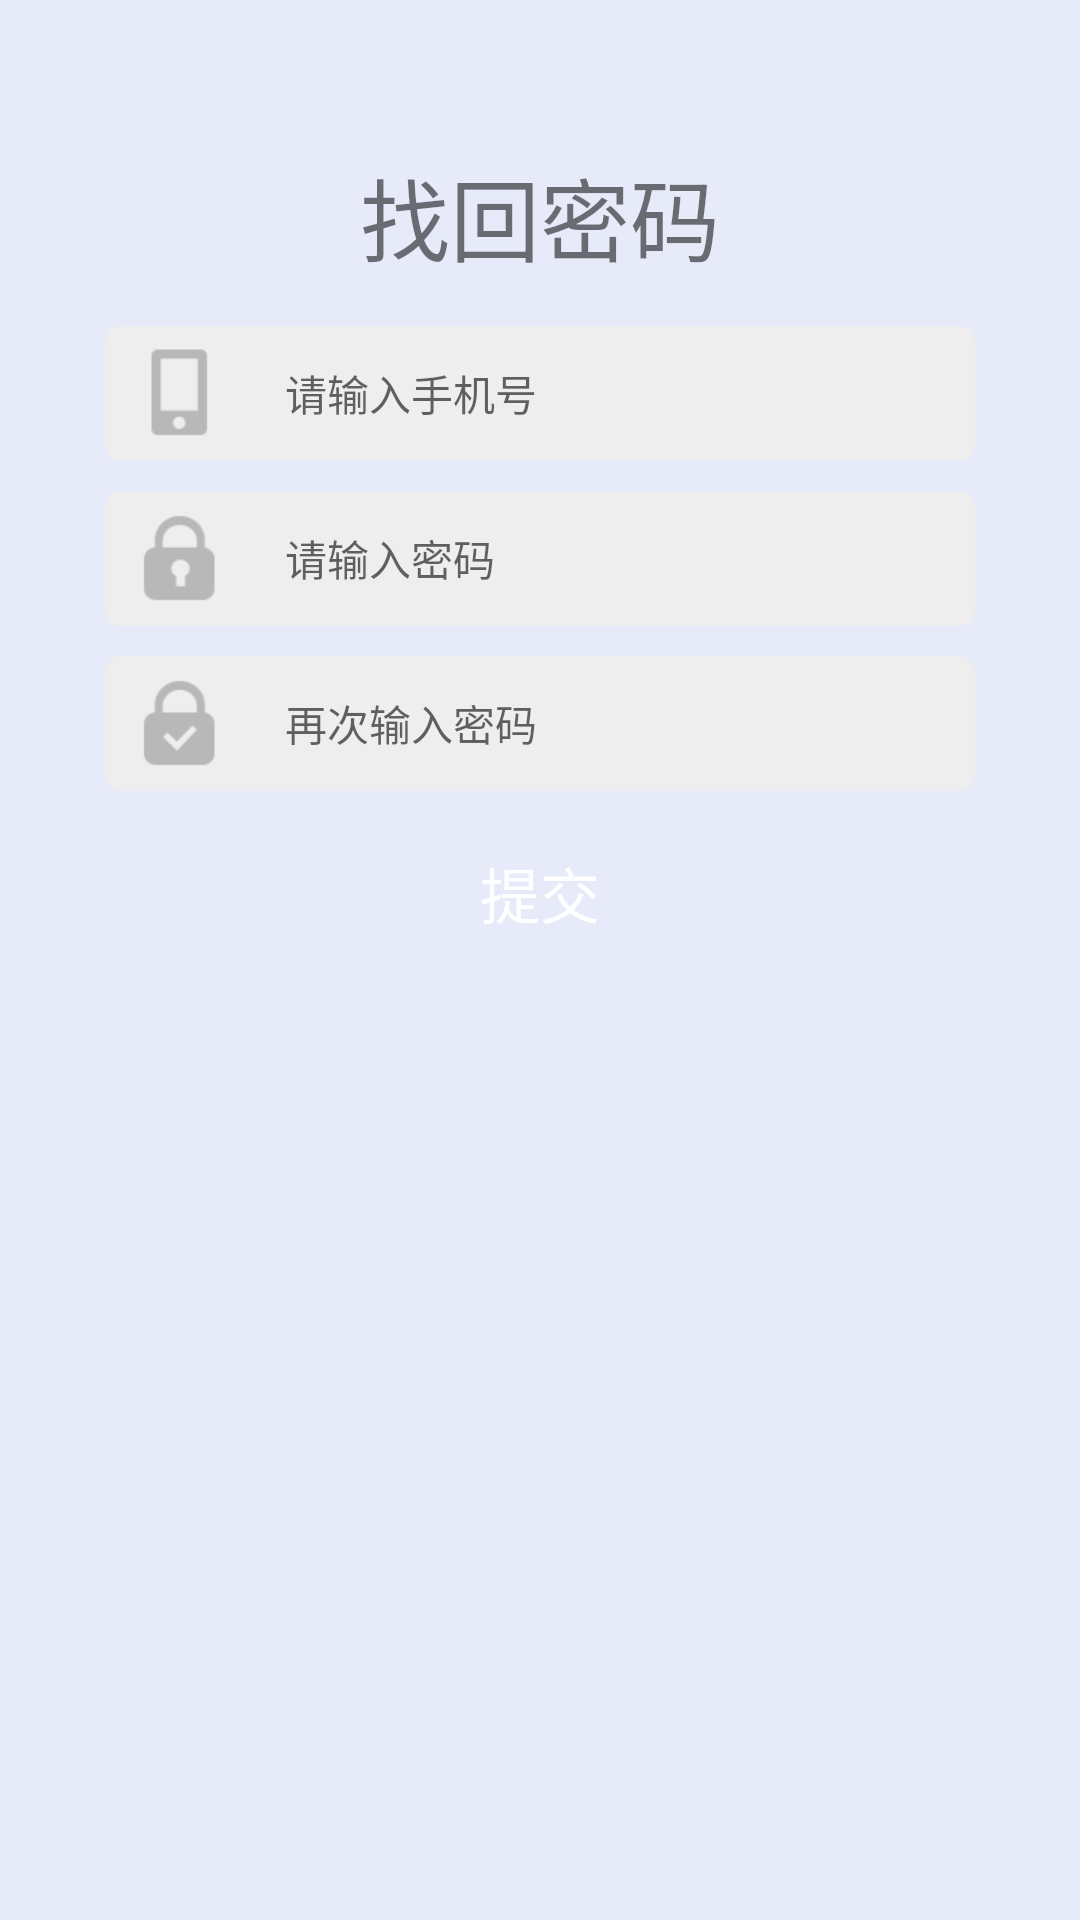

Where to tap for icons on this 1080*1920 app screen, as (x=x, y=y):
login phone: (x=179, y=392)
register pwd: (x=179, y=558)
register pwd again: (x=179, y=723)
